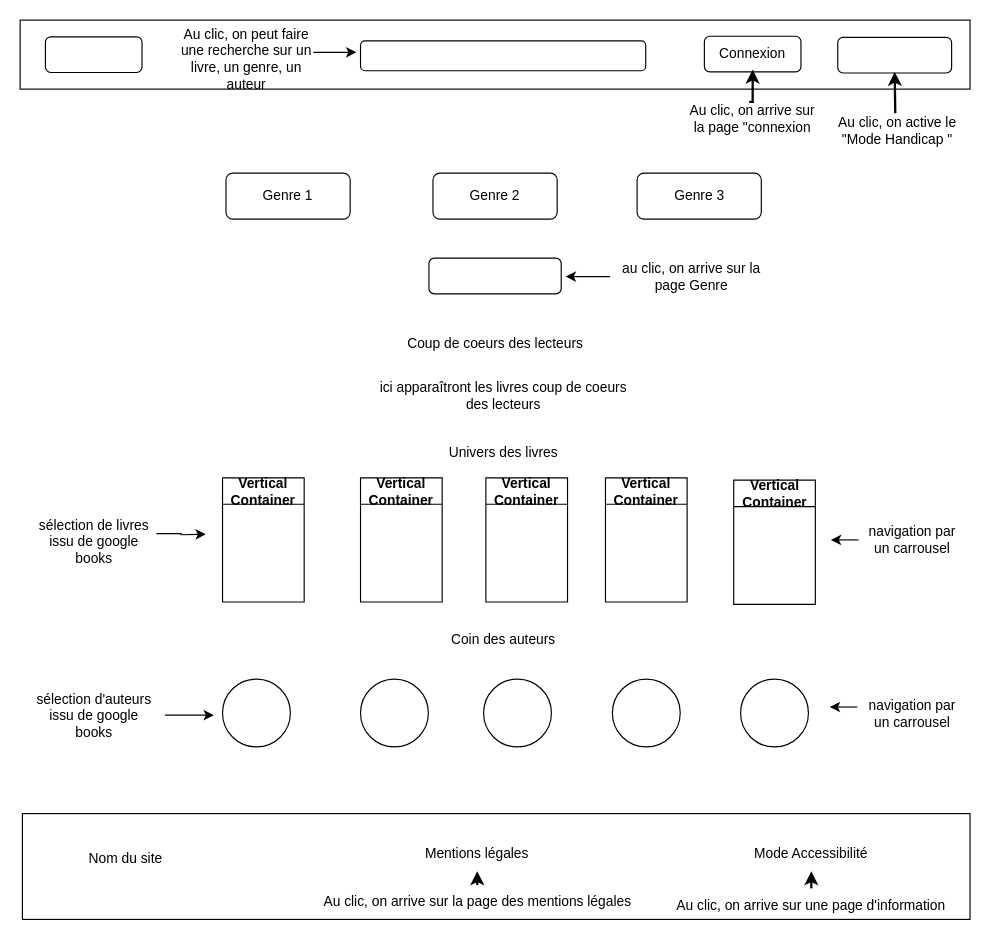
Image size: 991x943. Some labels were removed from this diagram. Here are the shapes that lost their labels. From the top down, the centre of each, then its label:
point 93,54: Logo
point 502,55: Moteur de recherche
point 894,54: Mode Handicap
point 494,275: Afficher la liste
